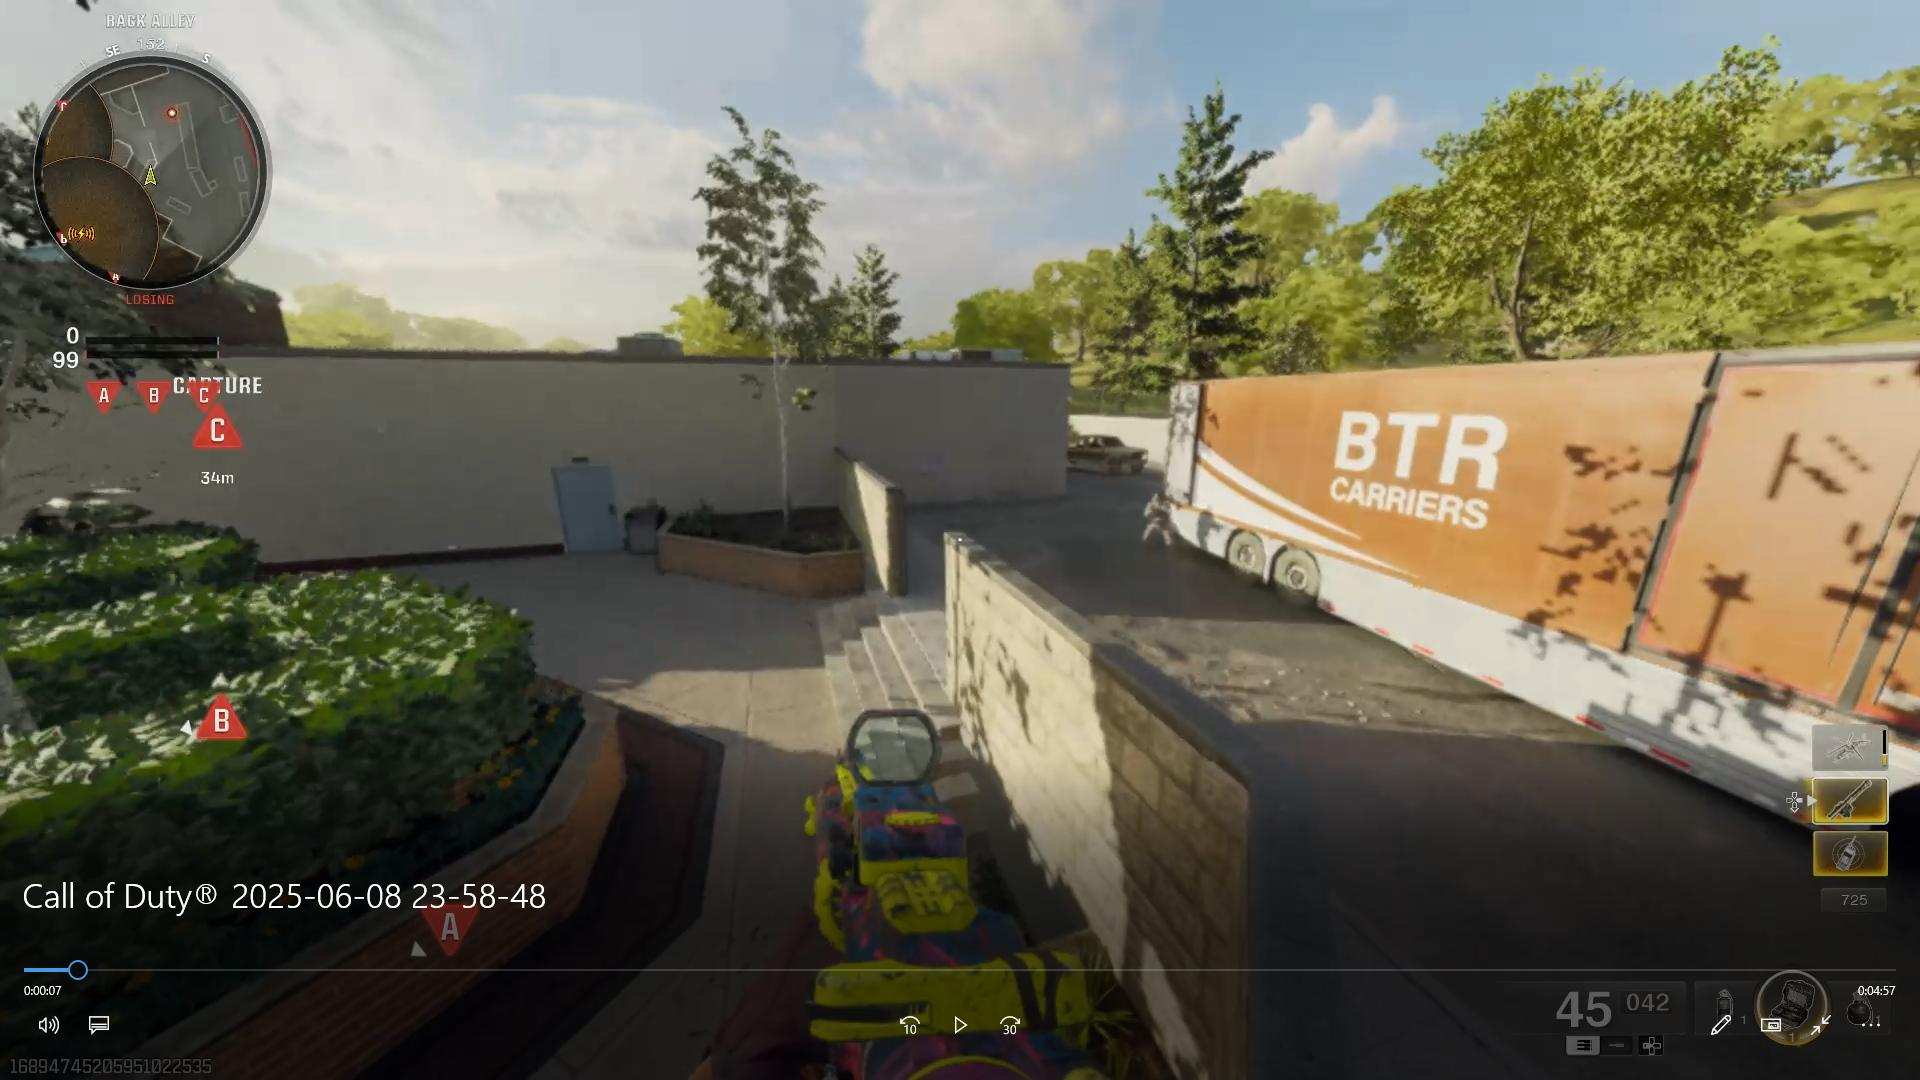Enemy: (1142, 493, 1176, 553)
